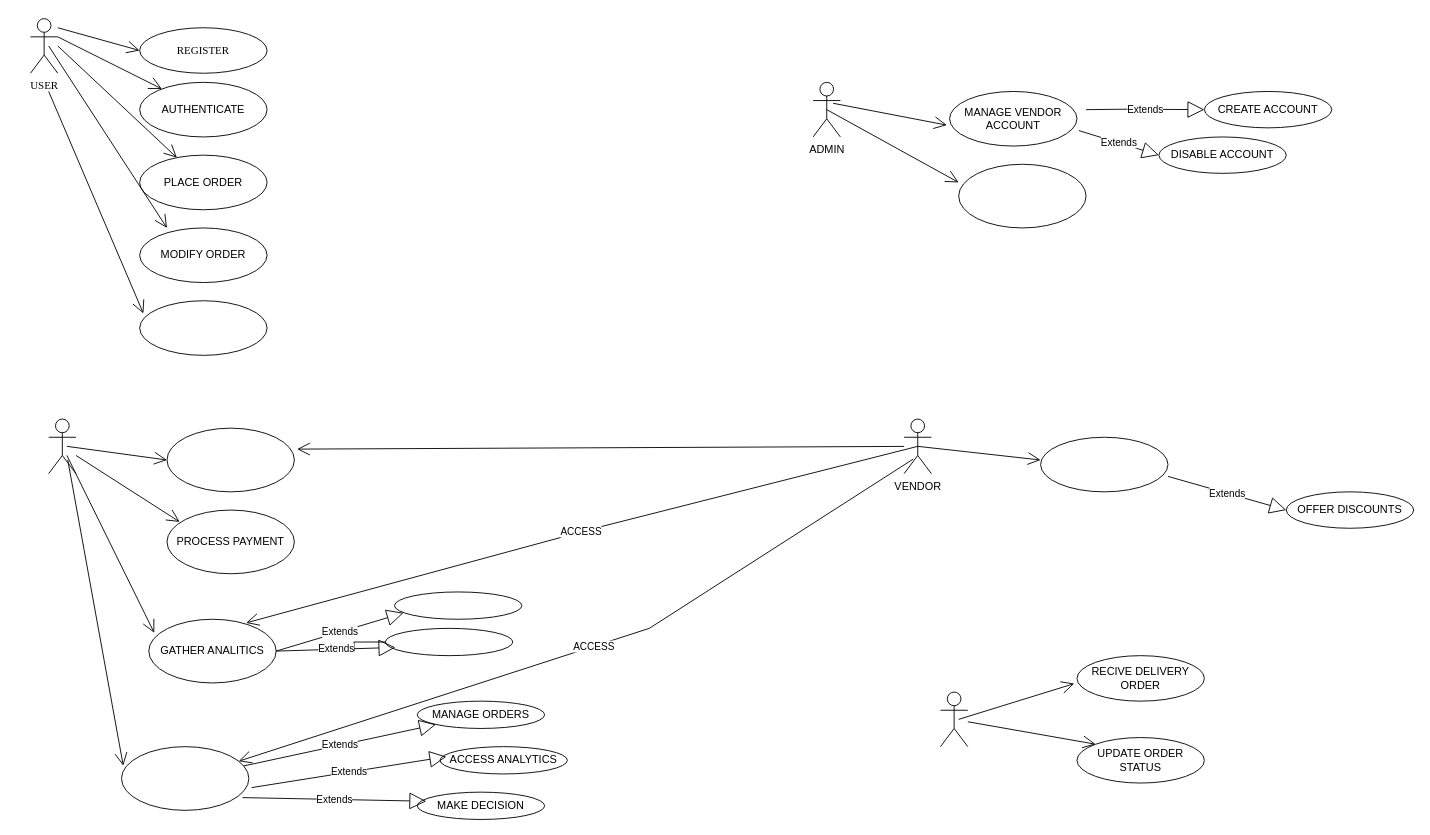
Image size: 1430x835. Some labels were removed from this diagram. Each missing label, with the centre of its shape:
"ANALYZE DATA" goes at pixel 448 641.
"COLLECT DATA" goes at pixel 458 605.
"CUSTOMER SUPPORT" goes at pixel 1022 195.
"DELIVERY PERSONNEL" goes at pixel 954 719.
"FOOD ORDERING WEBSITE" goes at pixel 62 446.
"MANAGE MENU" goes at pixel 230 459.
"PROVIDE DASHBOARD" goes at pixel 185 778.
"PROVIDE FEEDBACK" goes at pixel 203 327.
"RUN PROMOTION" goes at pixel 1104 464.
